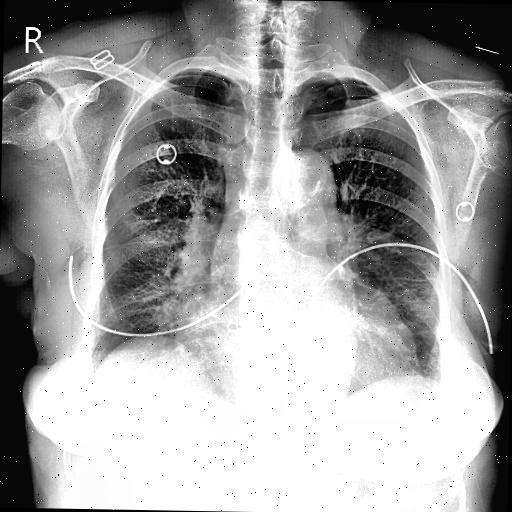0- Aortic enlargement: (270, 146, 331, 210), (282, 146, 339, 212), (271, 146, 333, 206)
11- Pleural thickening: (170, 64, 232, 82), (311, 74, 347, 86)
3- Cardiomegaly: (204, 282, 428, 394), (172, 299, 424, 393), (177, 308, 420, 392)
7- Lung Opacity: (166, 286, 214, 358)
